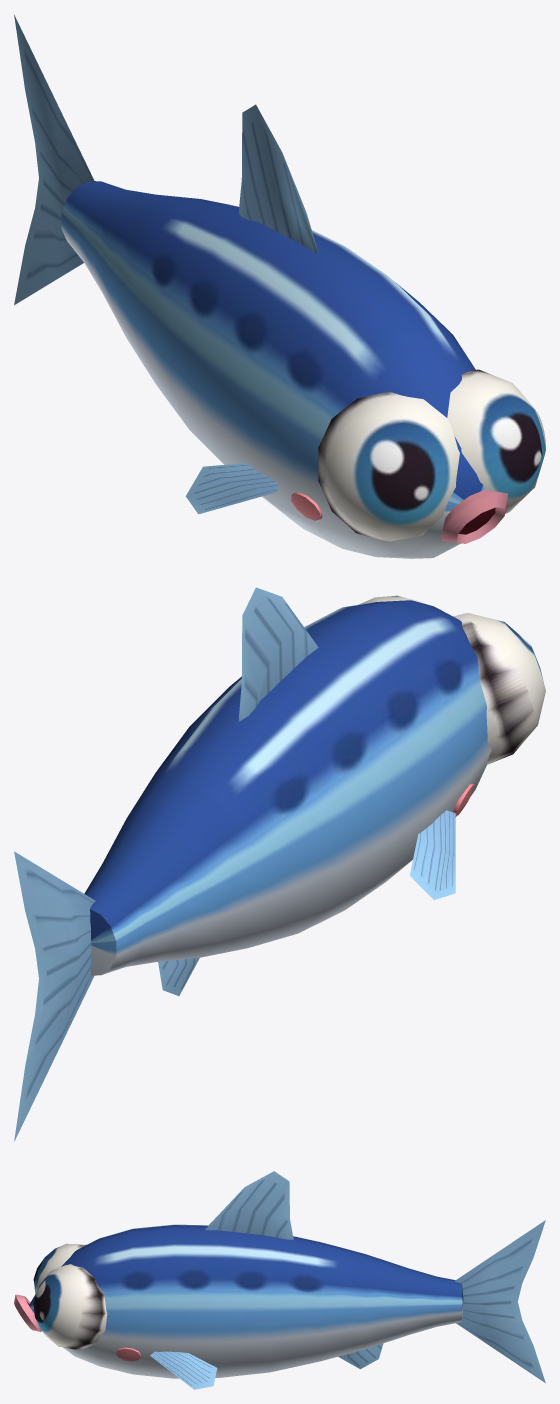
The model's file is fish_sardine.glb.
The picture shows the model from 3 angles, top to bottom: view 1: azimuth 30°, elevation 25°; view 2: azimuth 150°, elevation 25°; view 3: azimuth 270°, elevation 25°; orthographic projection. The views are drawn at different scales.
Visible parts, largest first — view 1: fish_sardine; view 2: fish_sardine; view 3: fish_sardine.
Part boxes in pixels (left/top/right/bottom): fish_sardine: left=14, top=14, right=545, bottom=558; fish_sardine: left=14, top=587, right=545, bottom=1141; fish_sardine: left=14, top=1171, right=545, bottom=1389.
Bounding box in the file's own units: 0.0801 × 0.1126 × 0.2554.
3 materials, 3 textured.
